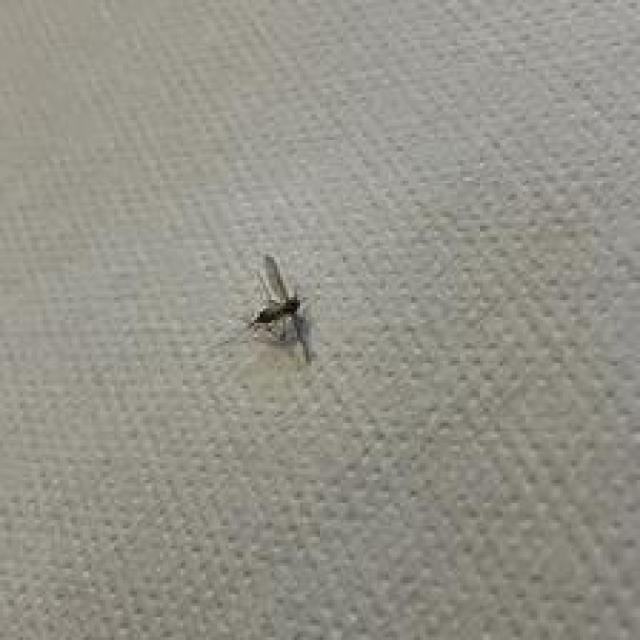Culex: (210, 252, 319, 368)
